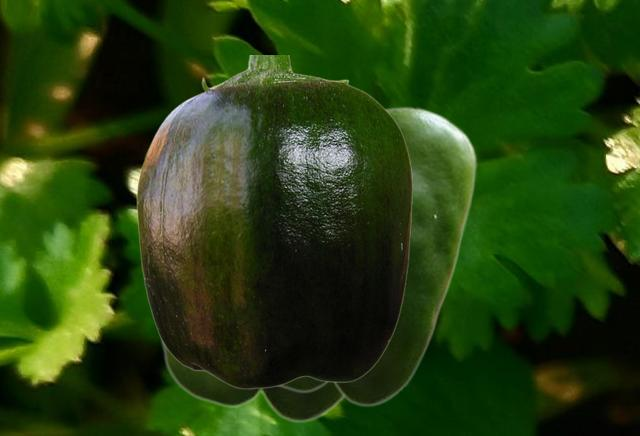bell_pepper: (136, 55, 412, 388), (157, 105, 383, 422), (275, 104, 477, 406)
